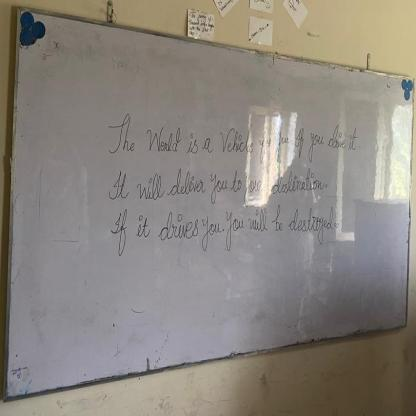Handwritten text: (102, 103, 364, 168), (101, 199, 338, 254), (104, 160, 332, 207)
